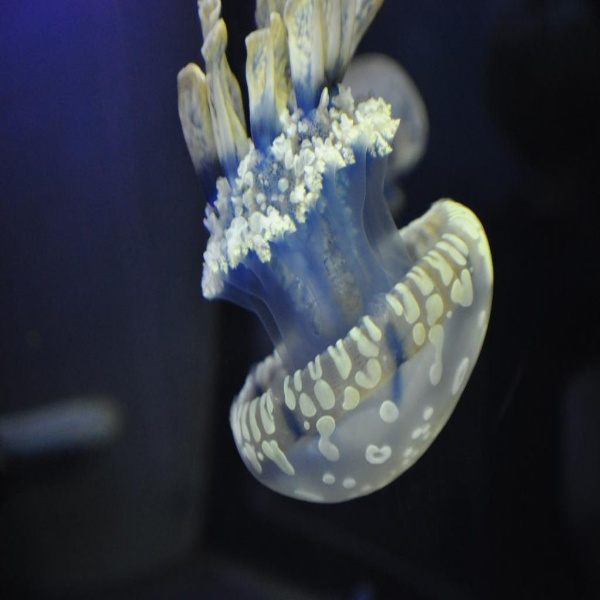Jellyfish: (174, 0, 493, 500)
